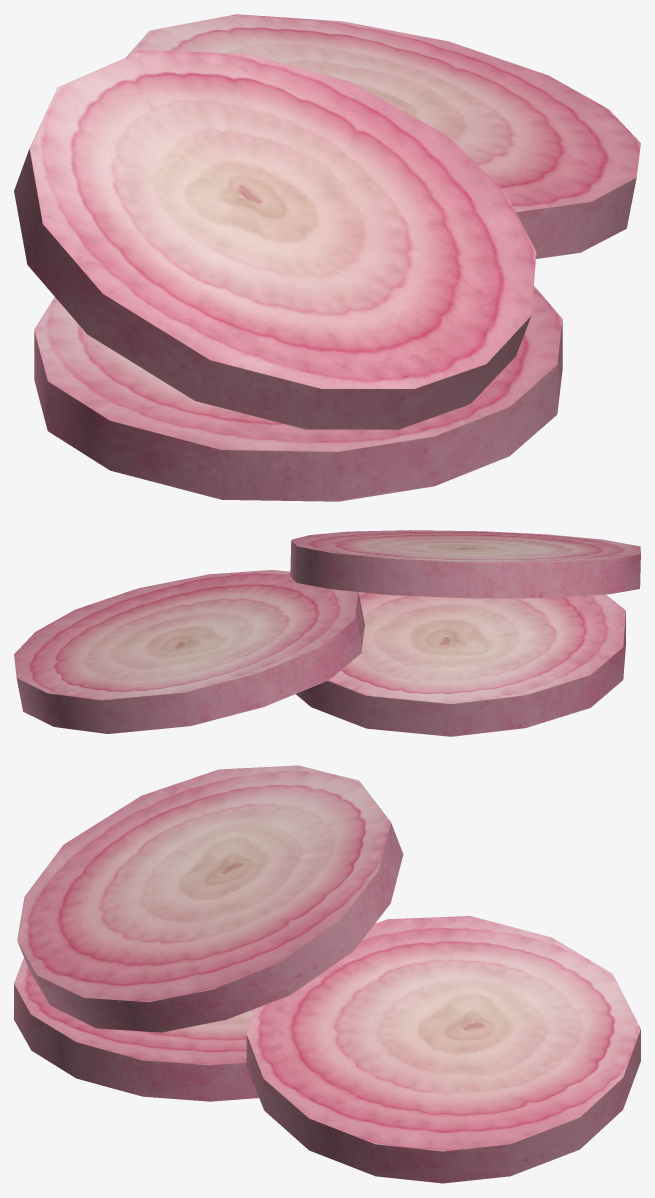
Rendered from onion.glb.
The picture shows the model from 3 angles, top to bottom: view 1: azimuth 30°, elevation 25°; view 2: azimuth 150°, elevation 25°; view 3: azimuth 270°, elevation 25°; orthographic projection. The views are drawn at different scales.
Parts seen in each view (by area): view 1: pCylinder4; view 2: pCylinder4; view 3: pCylinder4.
Part boxes in pixels (x1=…): pCylinder4: x1=14, y1=14, x2=640, y2=501; pCylinder4: x1=14, y1=530, x2=640, y2=736; pCylinder4: x1=14, y1=765, x2=640, y2=1183.
Bounding box in the file's own units: 0.0845 × 0.029 × 0.0867.
Materials: 1 (1 with a texture image).
